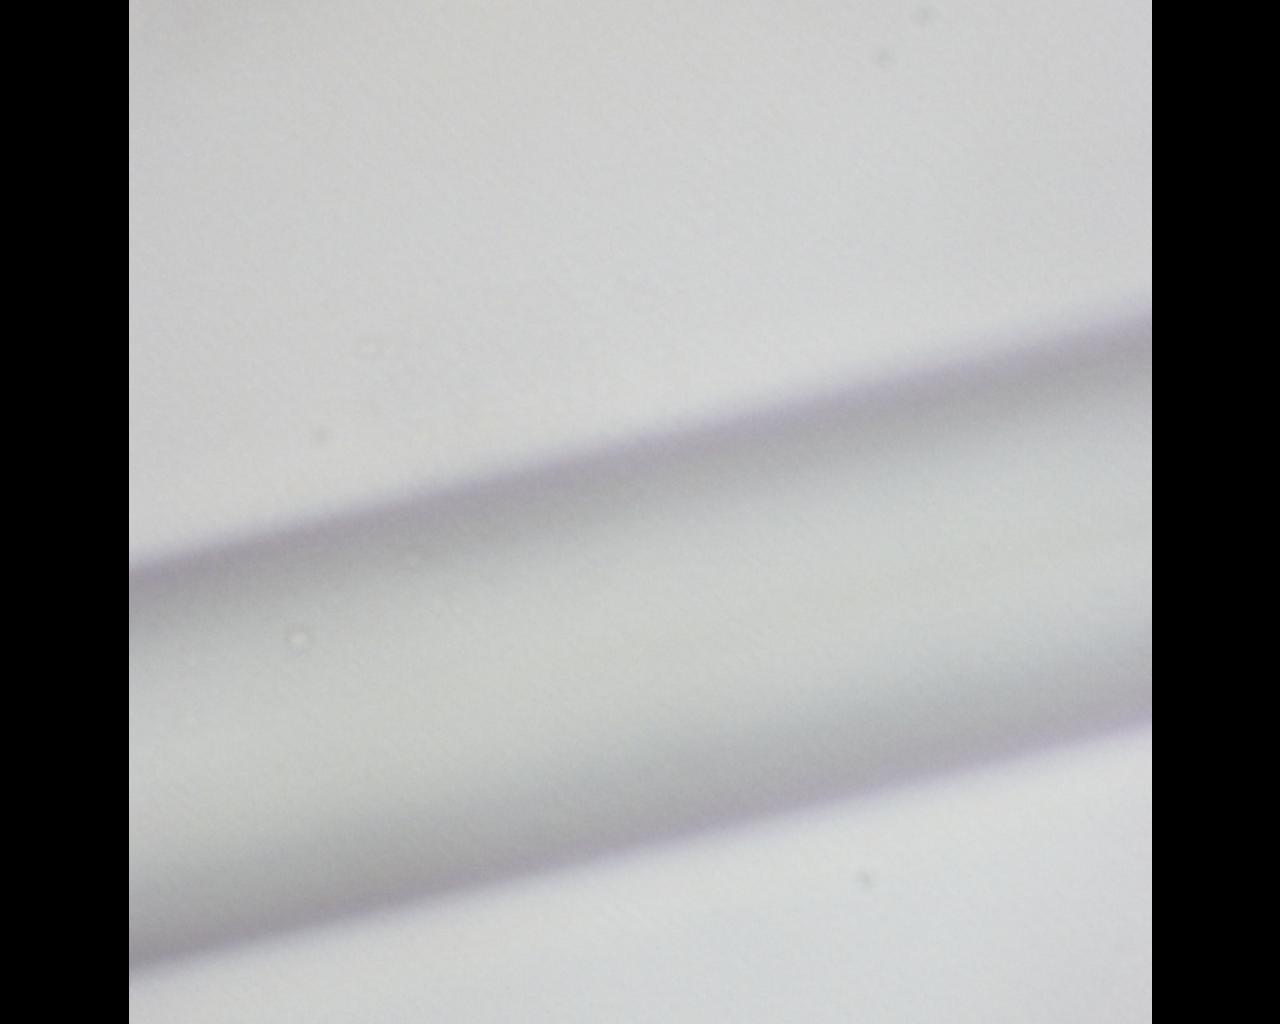fiber: (512, 522, 1280, 760), (0, 693, 512, 967), (948, 0, 962, 522)
